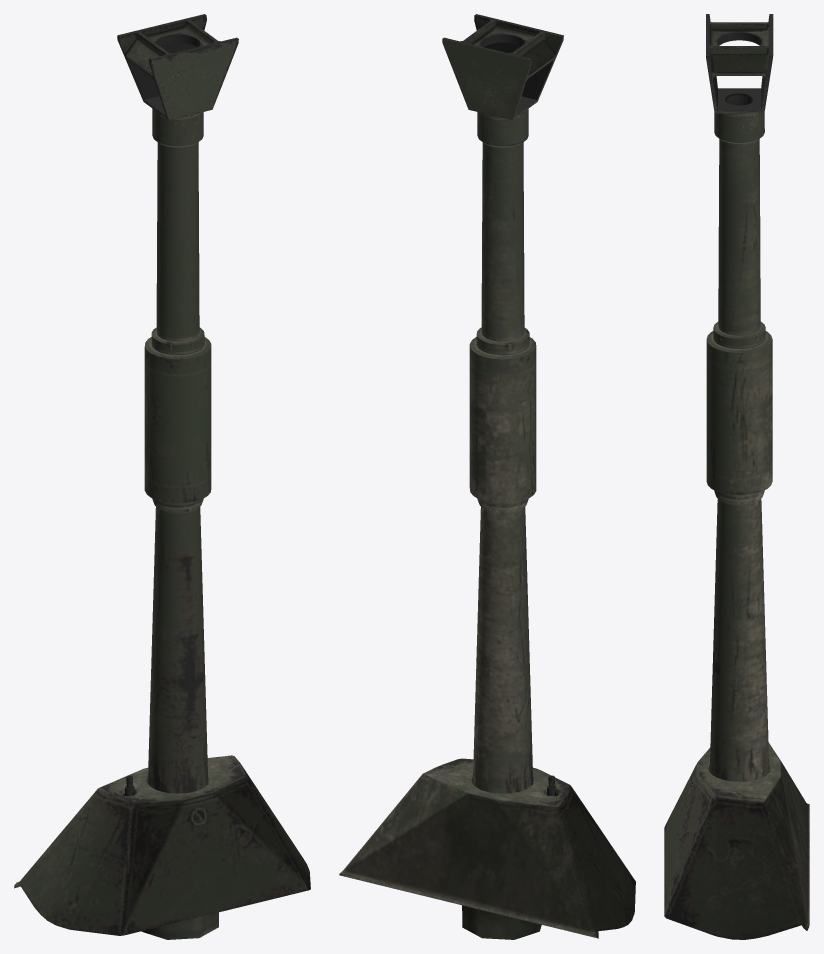
File: Gun_01.glb
3 views of the same model, side by side, from view 1: azimuth 30°, elevation 25°; view 2: azimuth 150°, elevation 25°; view 3: azimuth 270°, elevation 25° (orthographic).
Visible parts, largest first — view 1: set_0_group_0; view 2: set_0_group_0; view 3: set_0_group_0.
Part boxes in pixels (x1=…): set_0_group_0: x1=14, y1=14, x2=310, y2=939; set_0_group_0: x1=339, y1=14, x2=635, y2=939; set_0_group_0: x1=664, y1=14, x2=809, y2=939.
Size of the model in its own units: 1.19 by 3.87 by 0.5824.
1 material, 1 textured.
